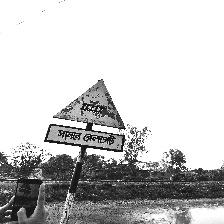Rail-crossing: (45, 78, 127, 156)
